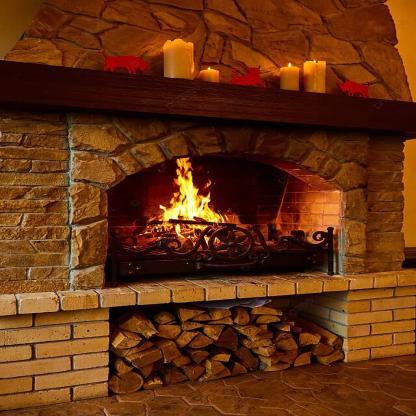fire: (148, 156, 232, 238)
